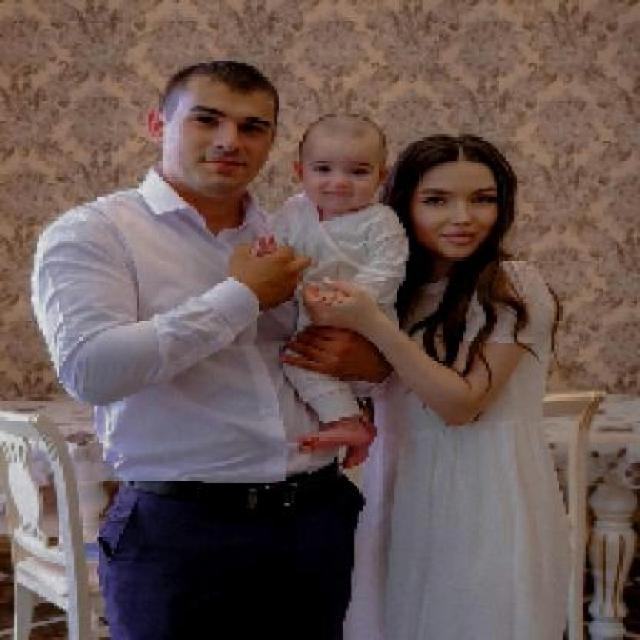child: (273, 111, 410, 472)
